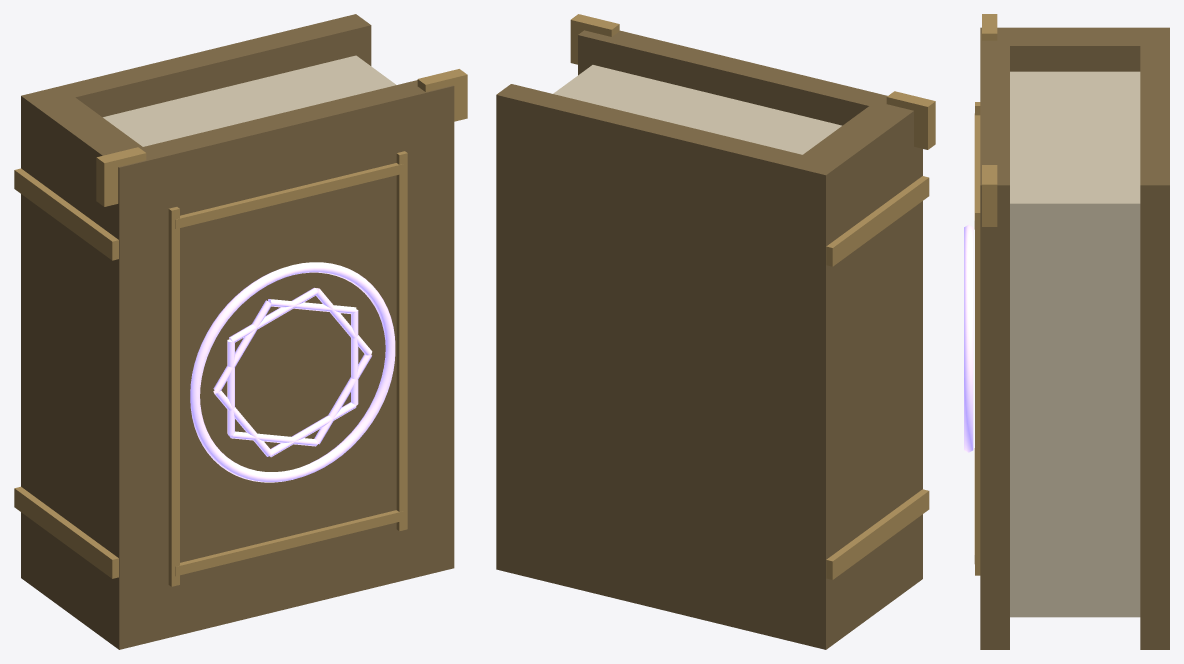
Rendered from grimoire-tools.glb.
The picture shows the model from 3 angles, left to right: view 1: azimuth 30°, elevation 25°; view 2: azimuth 150°, elevation 25°; view 3: azimuth 270°, elevation 25°; orthographic projection. The views are drawn at different scales.
Visible parts, largest first — view 1: Grimoire_6_leather, Grimoire_6_gold, Grimoire_6_rune, Grimoire_6_paper; view 2: Grimoire_6_leather, Grimoire_6_paper, Grimoire_6_gold; view 3: Grimoire_6_paper, Grimoire_6_leather, Grimoire_6_gold, Grimoire_6_rune.
Boxes of the visible parts, x1,y1,x2,y2 form: Grimoire_6_leather: [21, 14, 454, 649]; Grimoire_6_gold: [14, 69, 467, 586]; Grimoire_6_rune: [190, 262, 395, 482]; Grimoire_6_paper: [103, 55, 396, 146]; Grimoire_6_leather: [496, 30, 922, 649]; Grimoire_6_paper: [553, 65, 841, 154]; Grimoire_6_gold: [570, 14, 935, 579]; Grimoire_6_paper: [1010, 71, 1140, 617]; Grimoire_6_leather: [980, 27, 1169, 649]; Grimoire_6_gold: [974, 14, 997, 575]; Grimoire_6_rune: [964, 224, 973, 452].
Size of the model in its own units: 0.52 by 0.67 by 0.2651.
